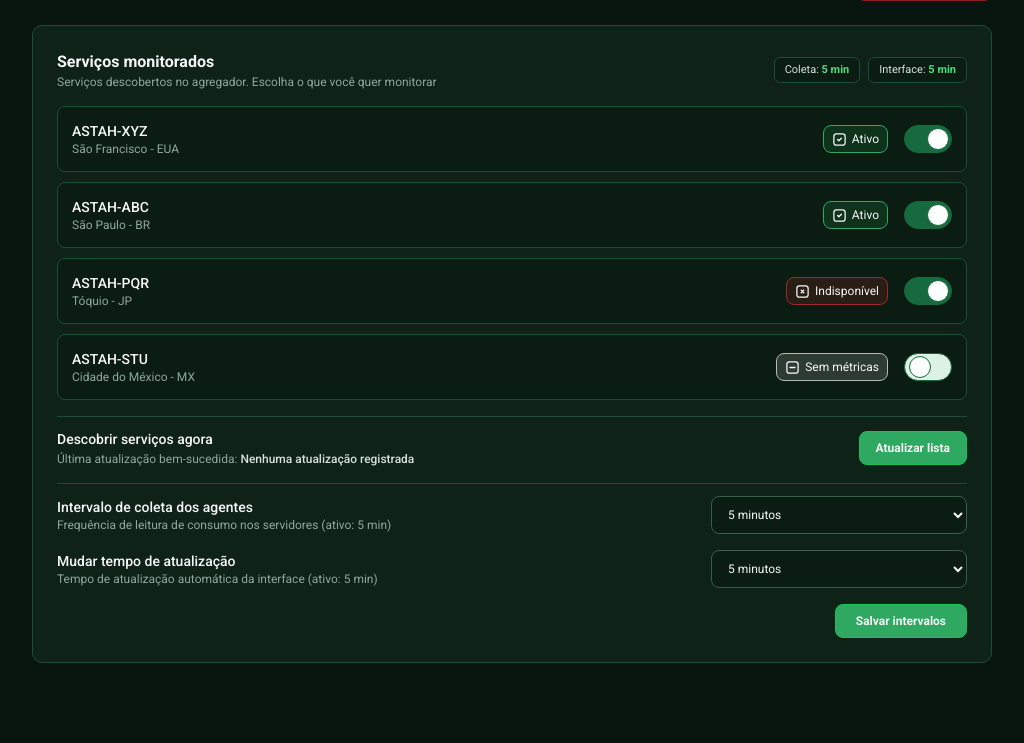
Test: configuração dos intervalos › mantém a configuração anterior quando a API recusa permissão
The width and height of the screenshot is (1024, 743).
(page scrolled)
Select "15 minutos" in the dropdown labelled "Intervalo de coleta dos agentes" at (839, 515), box [711,496,967,534]
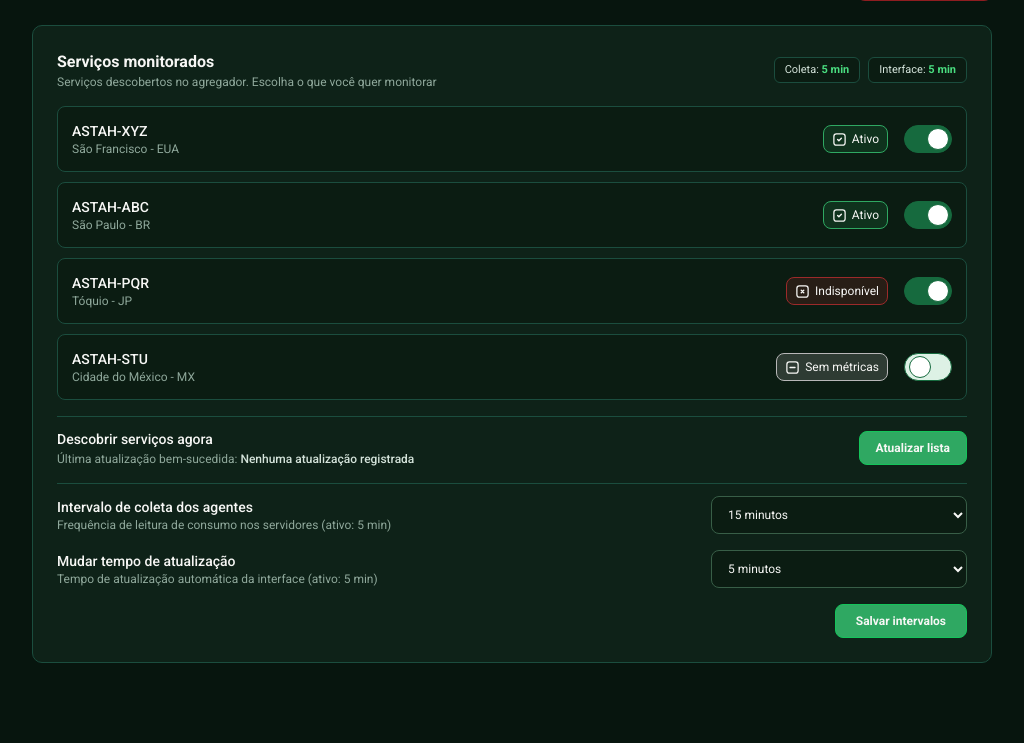
Click the button "Salvar intervalos" at (901, 621), box [835,604,967,638]
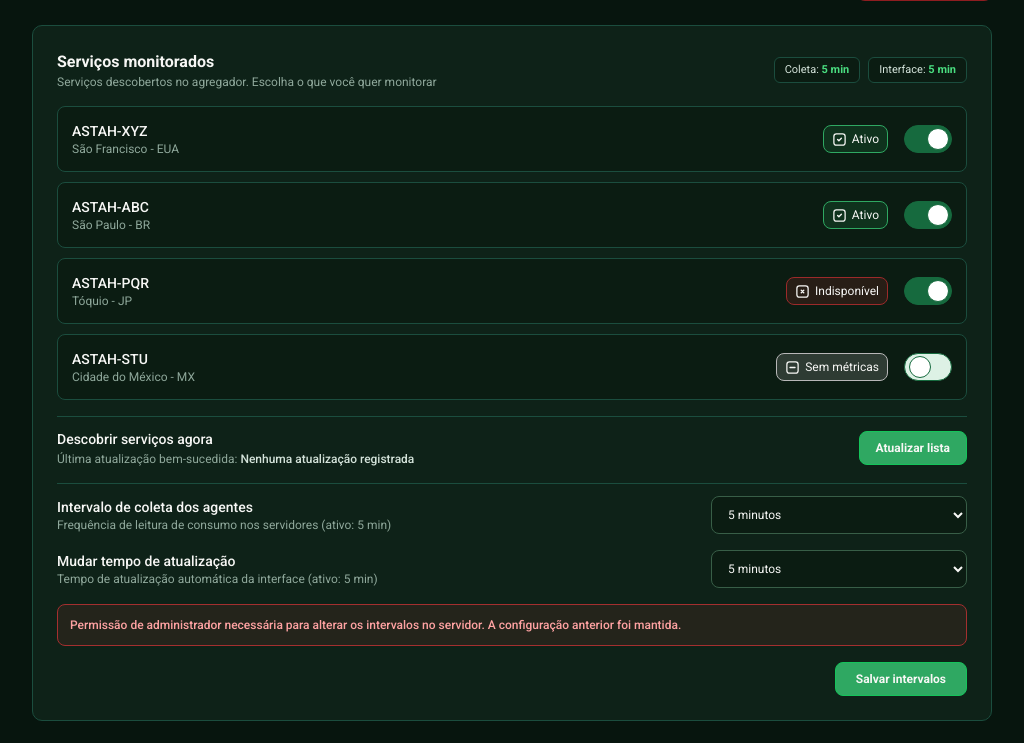
Now the text "Permissão de administrador necessária" is shown, box [70,618,681,632]
